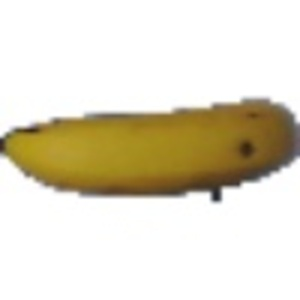banana: (1, 92, 298, 207)
